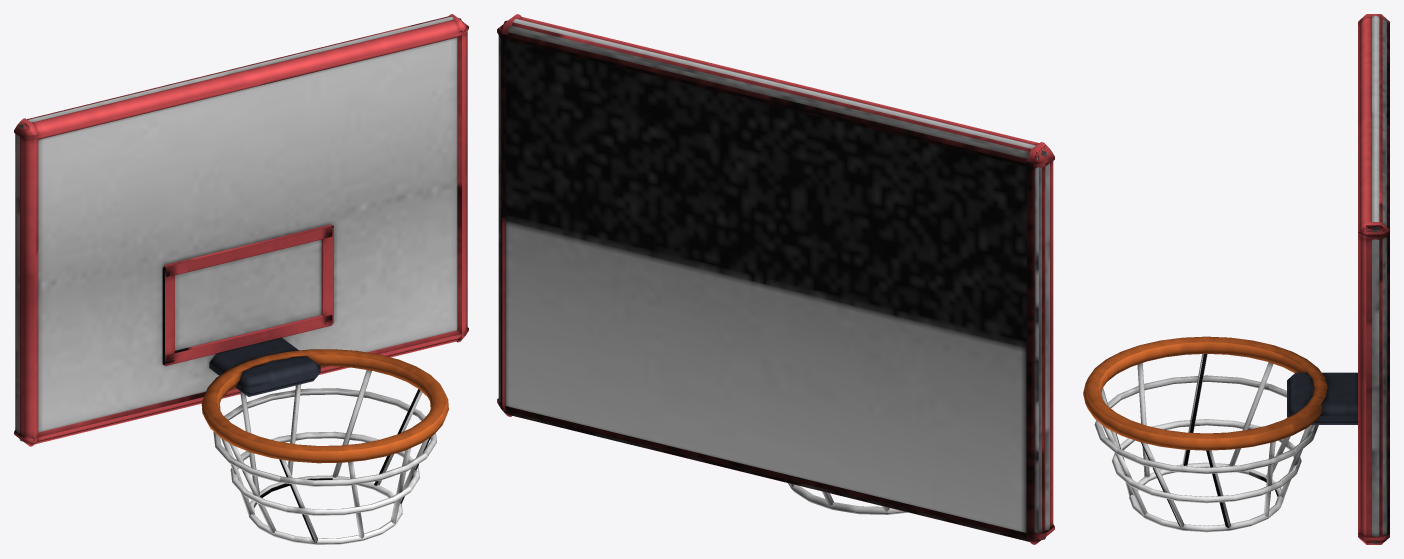
File: basketball_hoop.glb
3 views of the same model, side by side, from view 1: azimuth 30°, elevation 25°; view 2: azimuth 150°, elevation 25°; view 3: azimuth 270°, elevation 25° (orthographic). The views are drawn at different scales.
Parts seen in each view (by area): view 1: basketball_hoop; view 2: basketball_hoop; view 3: basketball_hoop.
Part boxes in pixels (box(x1,y1,x2,y2)): basketball_hoop: box(14, 14, 468, 544); basketball_hoop: box(497, 14, 1054, 544); basketball_hoop: box(1083, 14, 1389, 544).
Size of the model in its own units: 0.9 by 0.7357 by 0.536.
5 materials, 5 textured.
